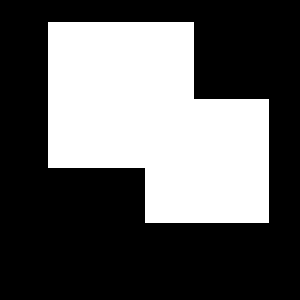circle: (48, 22, 194, 168), (145, 99, 269, 223)
